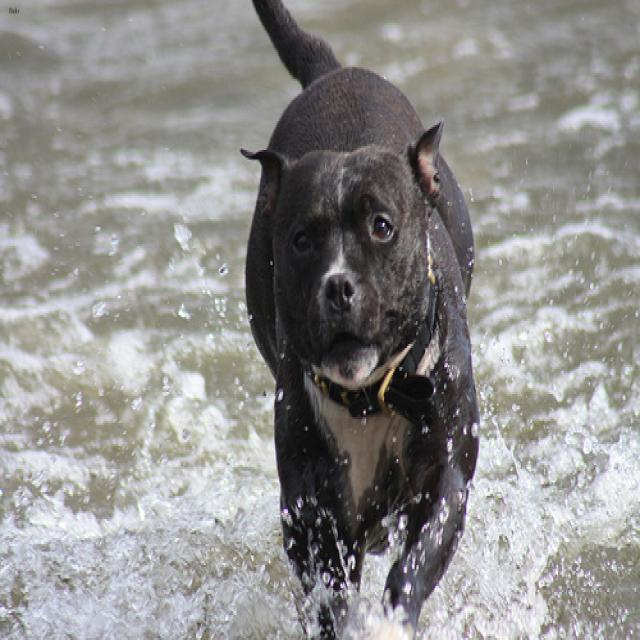dog-staffordshire_bull_terrier: (233, 2, 485, 636)
